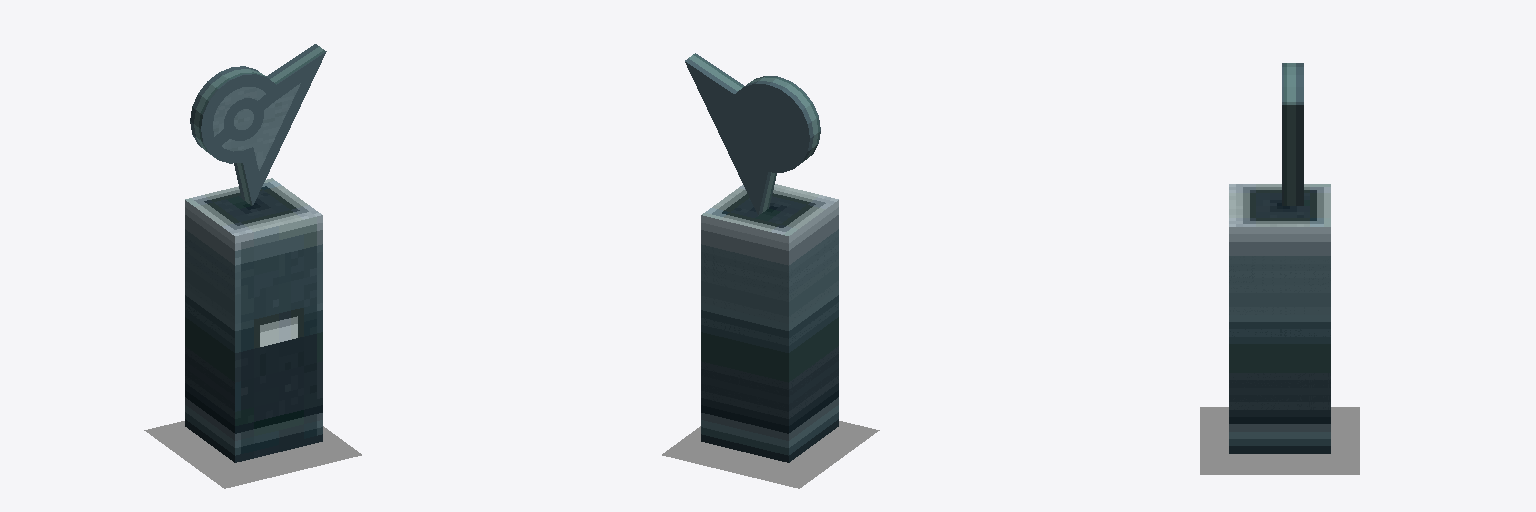
3 views of the same model, side by side, from view 1: azimuth 30°, elevation 25°; view 2: azimuth 150°, elevation 25°; view 3: azimuth 270°, elevation 25° (orthographic).
Visible parts, largest first — view 1: polySurface49; view 2: polySurface49; view 3: polySurface49.
Part boxes in pixels (left/top/right/bottom): polySurface49: left=144, top=44, right=361, bottom=488; polySurface49: left=662, top=53, right=879, bottom=488; polySurface49: left=1200, top=63, right=1359, bottom=474.
Bounding box in the file's own units: 1.12 × 2.79 × 1.09.
Materials: 2 (1 with a texture image).